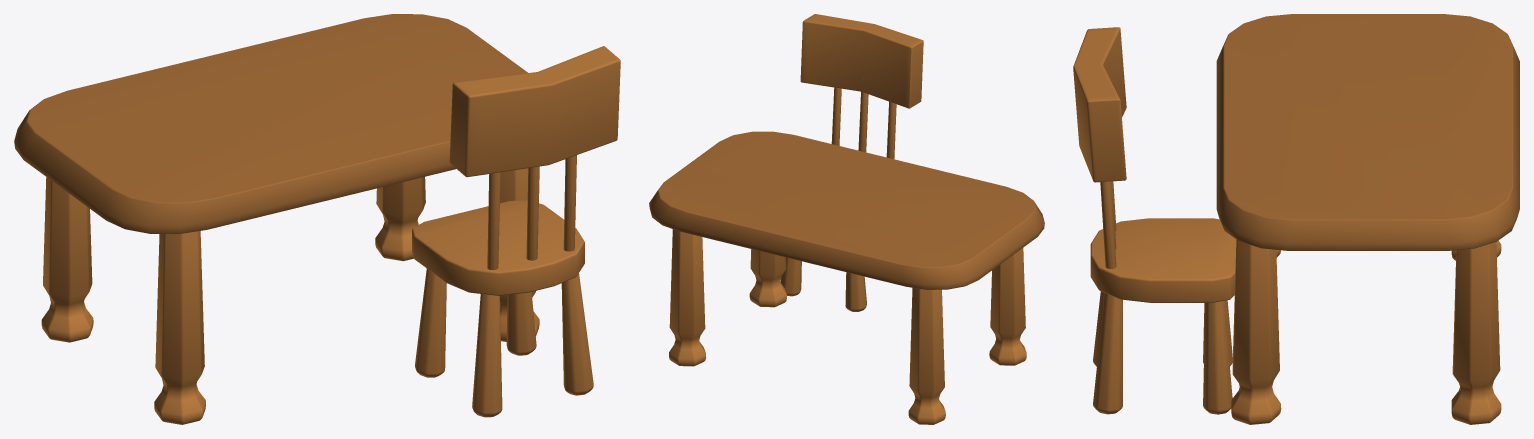
Rendered from masa_sandalye_ahşapayak.fbx.
The picture shows the model from 3 angles, left to right: view 1: azimuth 30°, elevation 25°; view 2: azimuth 150°, elevation 25°; view 3: azimuth 270°, elevation 25°; orthographic projection. The views are drawn at different scales.
Parts seen in each view (by area): view 1: Cube.048, Cube.057; view 2: Cube.048, Cube.057; view 3: Cube.048, Cube.057.
Part boxes in pixels (bbox=[...]): Cube.048: bbox=[14, 14, 539, 424]; Cube.057: bbox=[412, 46, 620, 417]; Cube.048: bbox=[649, 131, 1044, 424]; Cube.057: bbox=[780, 14, 923, 311]; Cube.048: bbox=[1216, 14, 1519, 424]; Cube.057: bbox=[1073, 27, 1236, 414].
Bounding box in the file's own units: 499 × 353 × 436.
